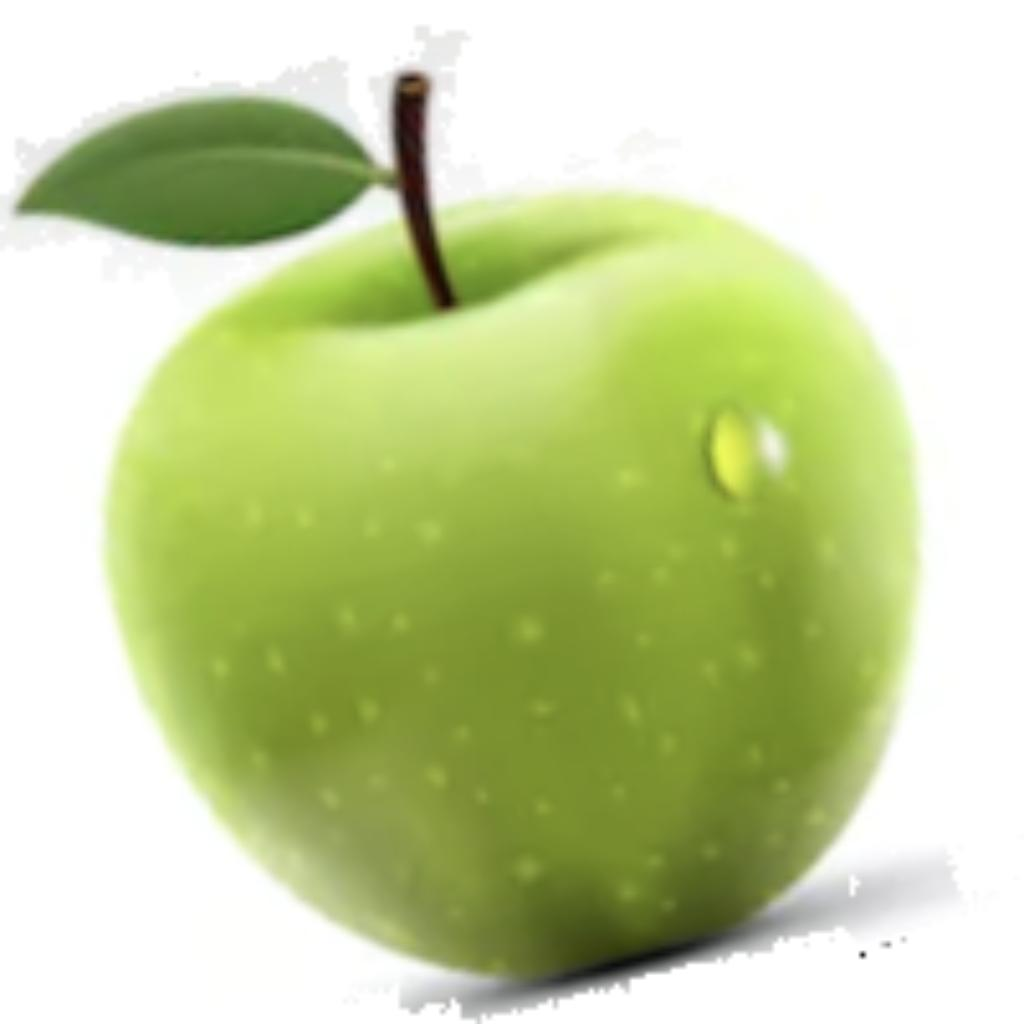apple: (0, 20, 972, 1019)
